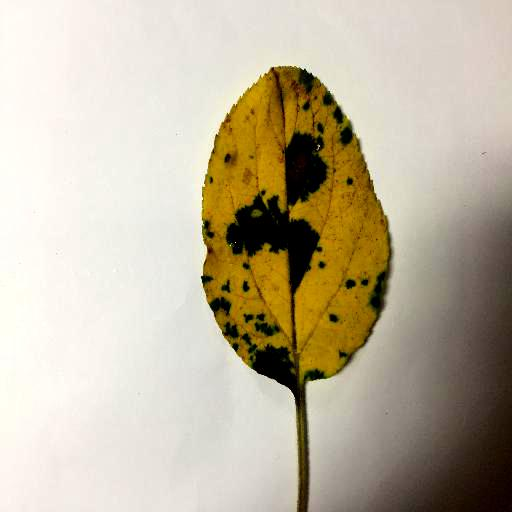Brown_Spot: (228, 204, 329, 285), (282, 137, 327, 198), (245, 345, 299, 389)
